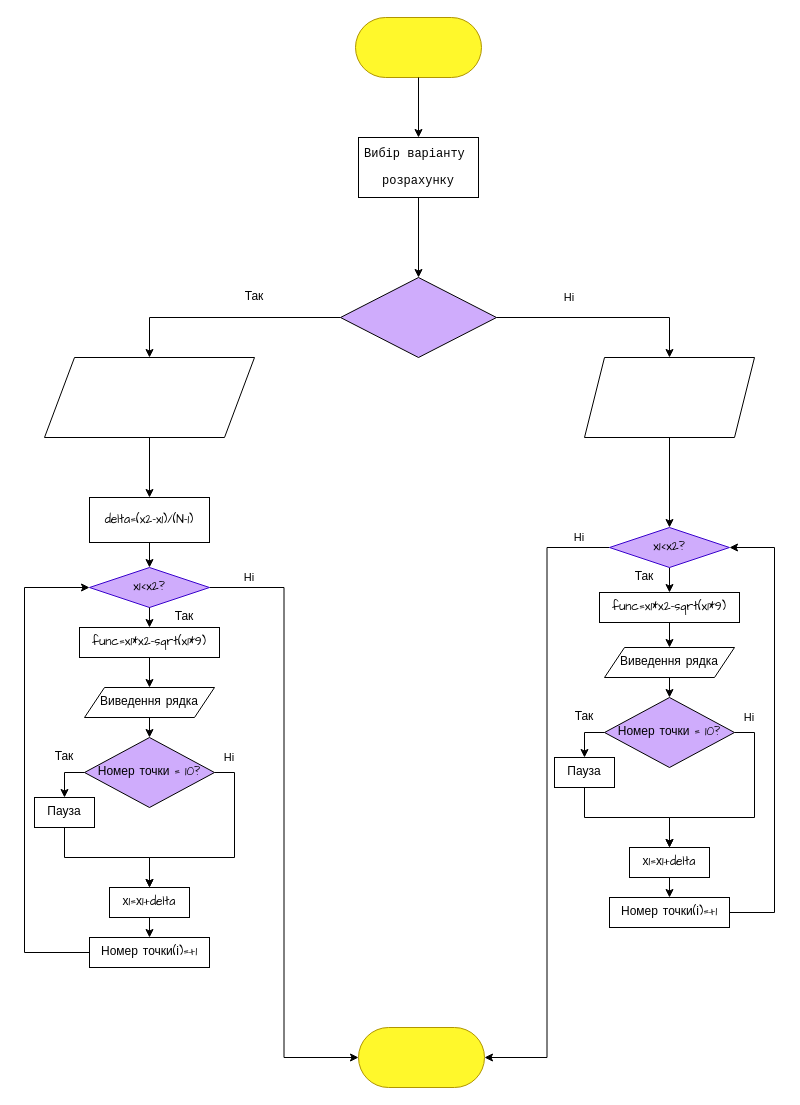
This 800x1105 diagram has some shape labels left out. The box of each missing label's shape, as (x1, y1, x2, y2) in pixels:
Введення змінних х1,х2,delta: (584, 356, 754, 438)
Введення змінних х1,х2,N: (44, 356, 254, 438)
Кінець: (358, 1026, 484, 1088)
Початок: (354, 16, 482, 78)
Тип = 1?: (340, 276, 496, 358)
